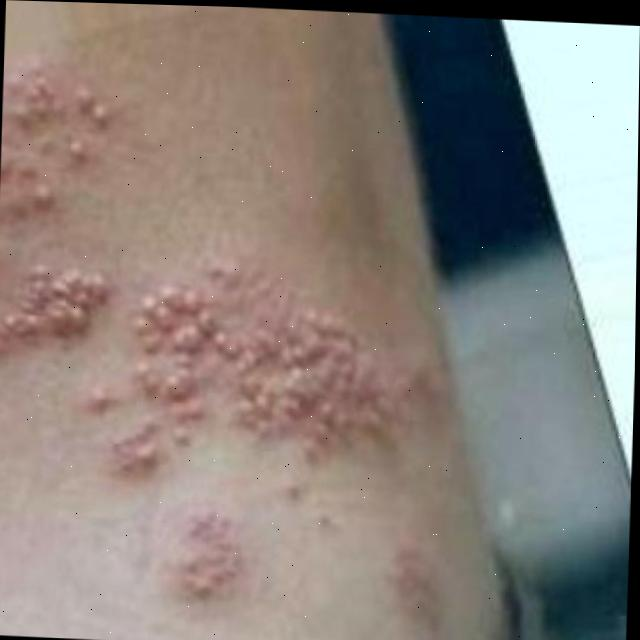Shingles: (0, 256, 414, 488), (0, 58, 113, 245), (173, 509, 244, 598)
